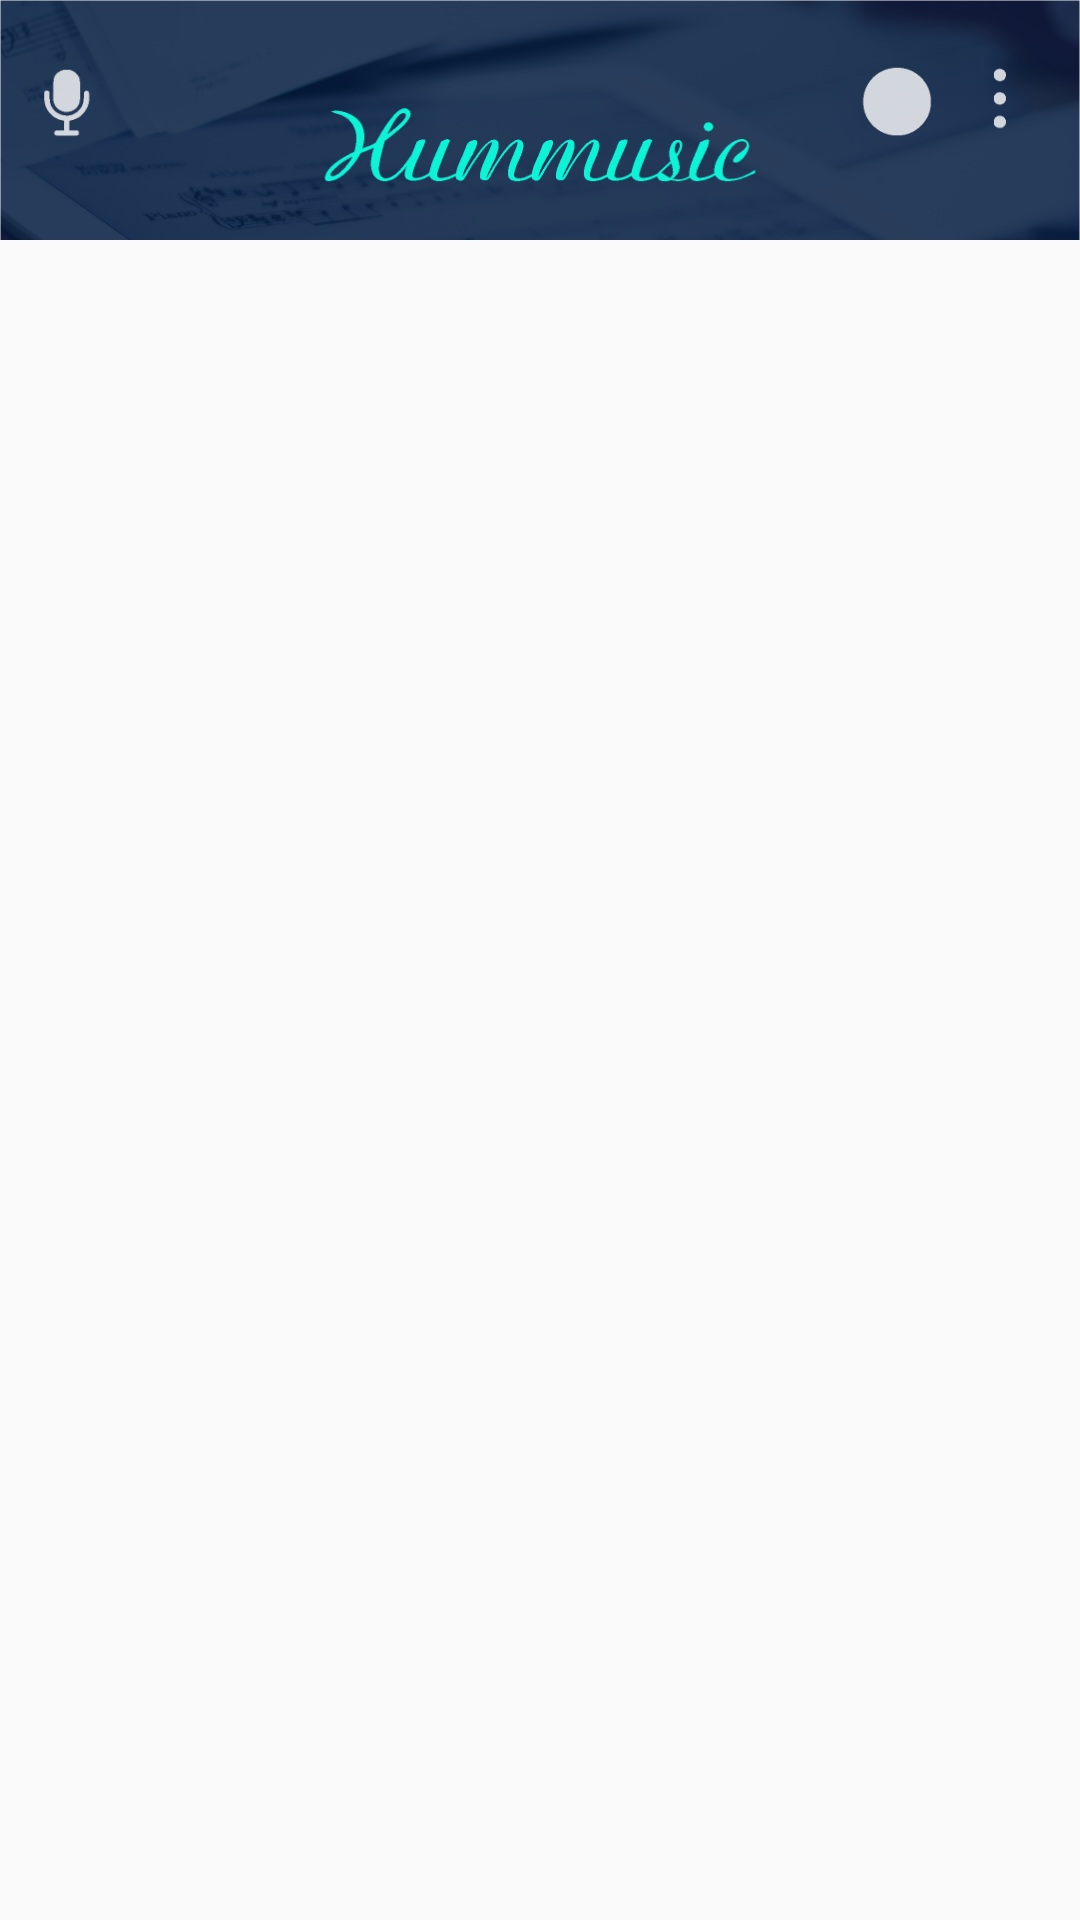

Screen size 1080*1920. Icon name, then its box in pixels as (x1, y1, x2, y2):
menu: (994, 68, 1006, 129)
